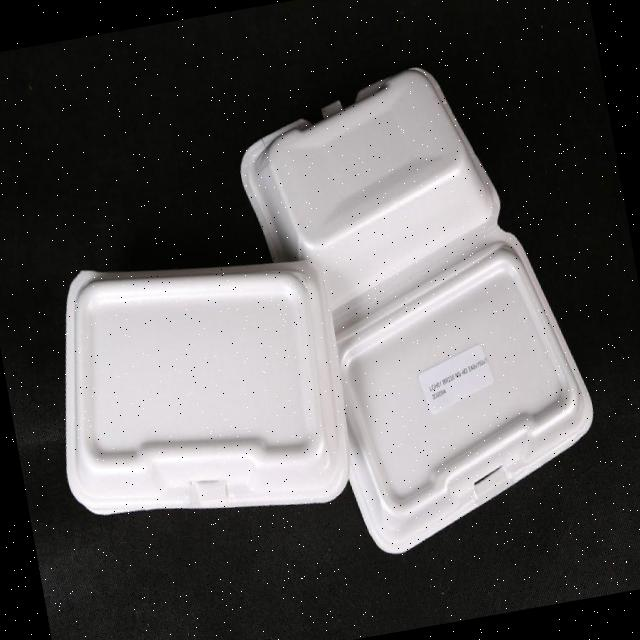styrofoam: (5, 42, 613, 609), (31, 225, 364, 547)
